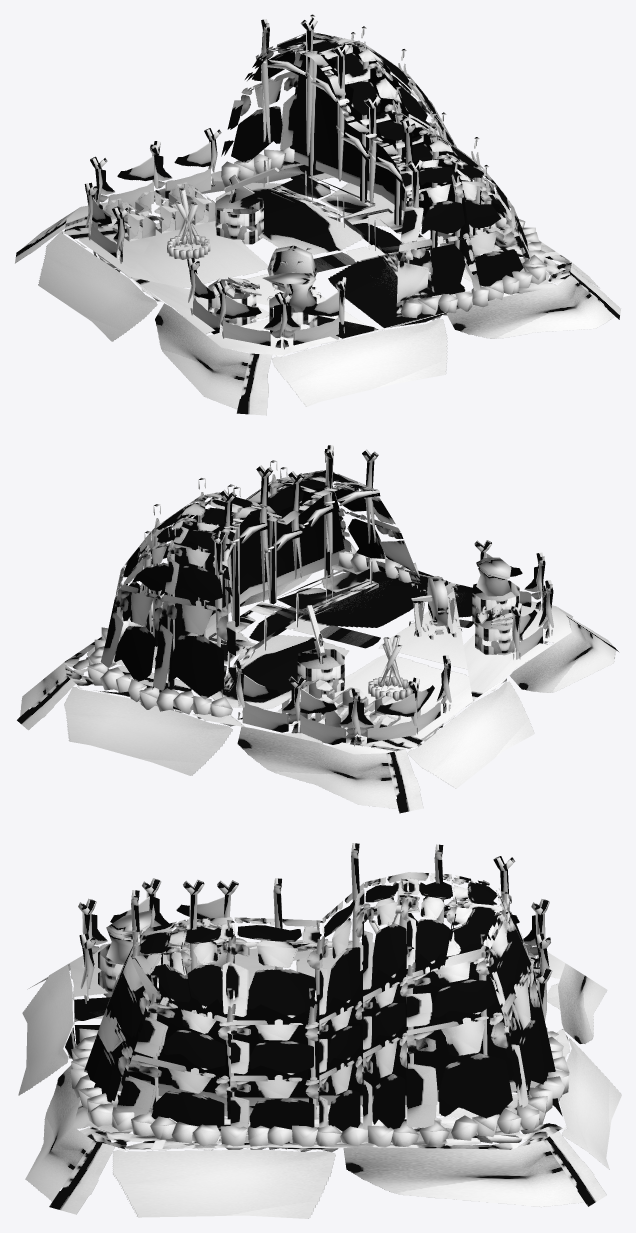
Rendered from forge.dae.
The picture shows the model from 3 angles, top to bottom: view 1: azimuth 30°, elevation 25°; view 2: azimuth 150°, elevation 25°; view 3: azimuth 270°, elevation 25°; orthographic projection. The views are drawn at different scales.
Parts seen in each view (by area): view 1: forge; view 2: forge; view 3: forge.
Part boxes in pixels (<box>): forge: <box>15,14,620,415</box>; forge: <box>17,445,618,813</box>; forge: <box>18,843,621,1218</box>.
Size of the model in its own units: 21.95 by 22.31 by 10.95.
